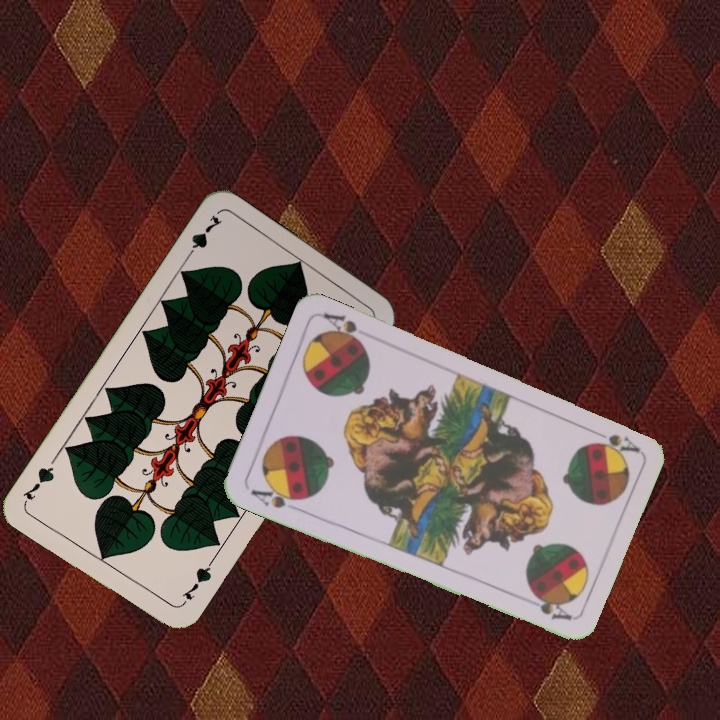G7: (181, 210, 225, 263), (177, 556, 216, 609)
SA: (247, 481, 306, 511), (585, 424, 641, 455)
